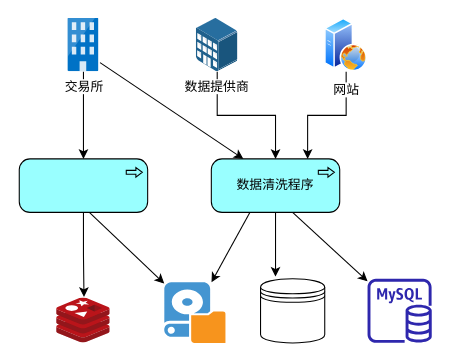
This 449x362 diagram has some shape labels left out. Each missing label, with the box of its shape:
SSDB: (259, 278, 325, 343)
数据订阅器: (18, 158, 148, 212)
